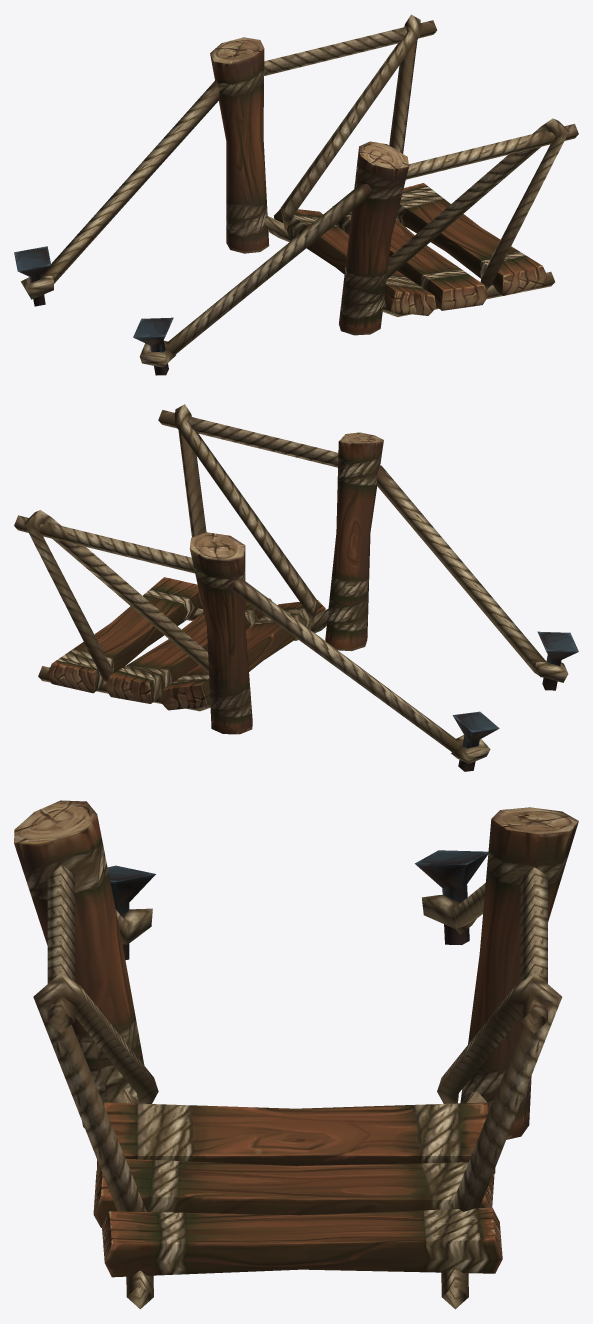
File: rope_bridge_start_r.fbx
3 renders of one model, top to bottom at view 1: azimuth 30°, elevation 25°; view 2: azimuth 150°, elevation 25°; view 3: azimuth 270°, elevation 25°, orthographic. The views are drawn at different scales.
Visible parts, largest first — view 1: rope_bridge_start_r; view 2: rope_bridge_start_r; view 3: rope_bridge_start_r.
Part boxes in pixels (x1=…): rope_bridge_start_r: x1=14, y1=14, x2=578, y2=375; rope_bridge_start_r: x1=14, y1=404, x2=578, y2=771; rope_bridge_start_r: x1=14, y1=800, x2=578, y2=1309.
Size of the model in its own units: 283 by 123 by 186.
